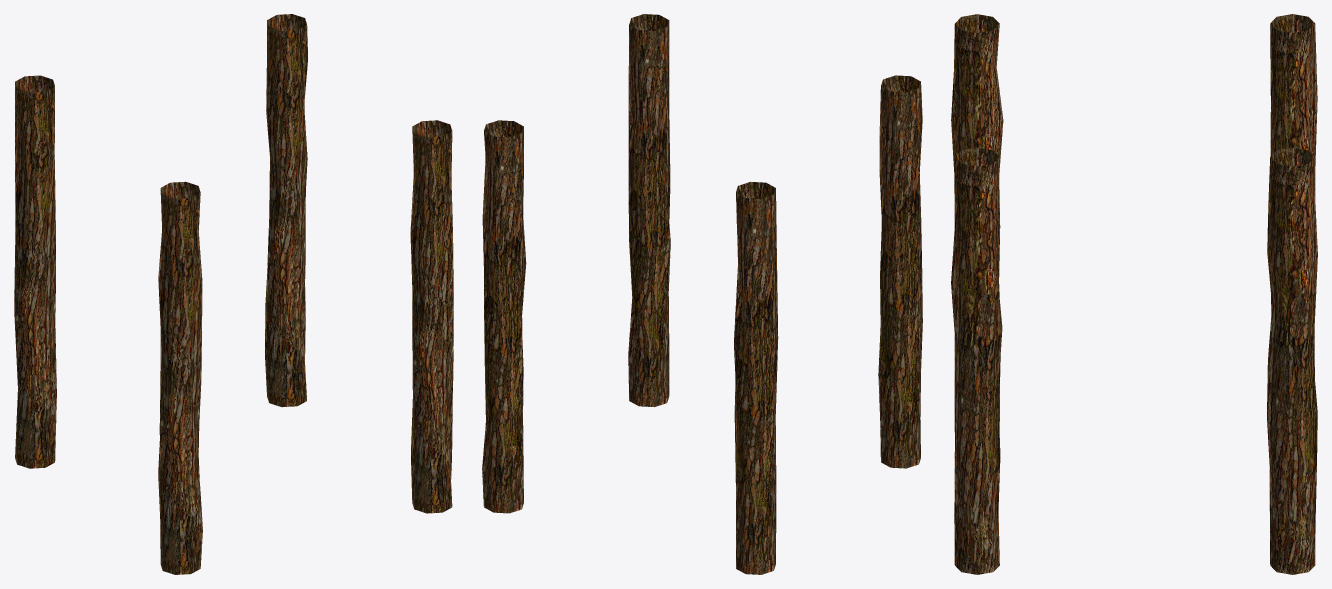
The model's file is Cave_023.fbx.
3 renders of one model, left to right at view 1: azimuth 30°, elevation 25°; view 2: azimuth 150°, elevation 25°; view 3: azimuth 270°, elevation 25°, orthographic. The views are drawn at different scales.
Visible parts, largest first — view 1: Cave.023; view 2: Cave.023; view 3: Cave.023.
Part boxes in pixels (x1,y1,x2,y2): Cave.023: [14, 14, 453, 574]; Cave.023: [482, 14, 922, 574]; Cave.023: [951, 14, 1317, 574].
Bounding box in the file's own units: 243 × 300 × 244.
